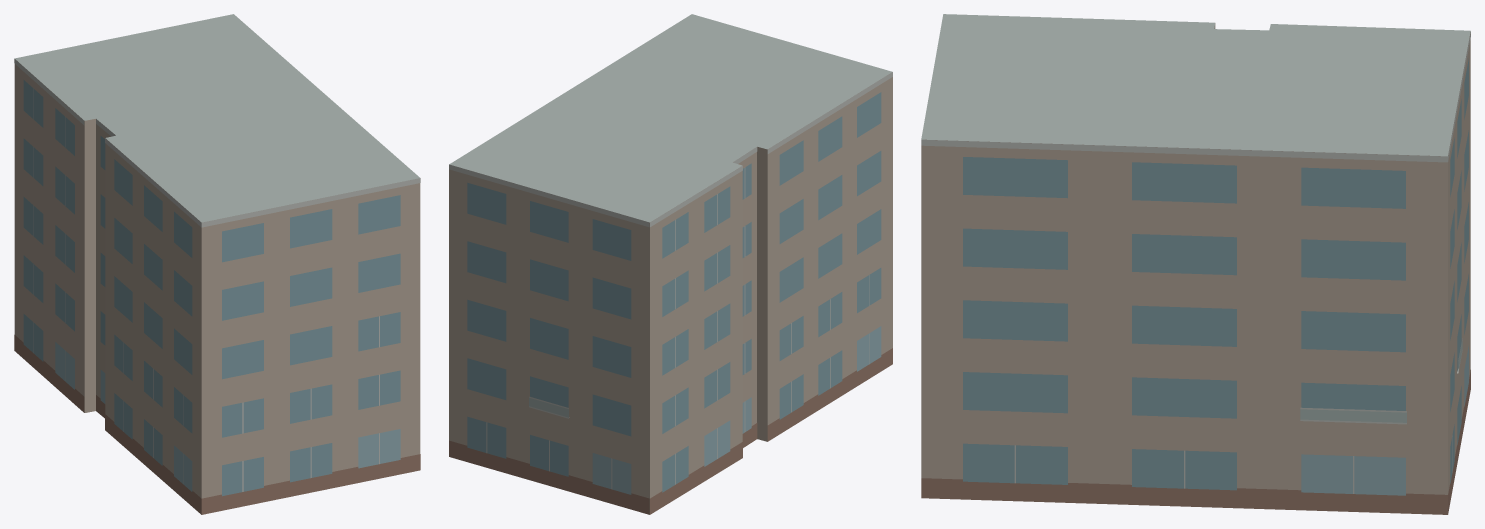
The model's file is survey-upis-32626039.glb.
3 renders of one model, left to right at view 1: azimuth 30°, elevation 25°; view 2: azimuth 150°, elevation 25°; view 3: azimuth 270°, elevation 25°, orthographic. The views are drawn at different scales.
Parts seen in each view (by area): view 1: survey-upis-32626039.tmp; view 2: survey-upis-32626039.tmp; view 3: survey-upis-32626039.tmp.
Boxes of the visible parts, x1,y1,x2,y2 form: survey-upis-32626039.tmp: [14, 14, 420, 514]; survey-upis-32626039.tmp: [449, 14, 892, 514]; survey-upis-32626039.tmp: [921, 14, 1470, 514].
Bounding box in the file's own units: 12.19 × 14.3 × 19.88.
